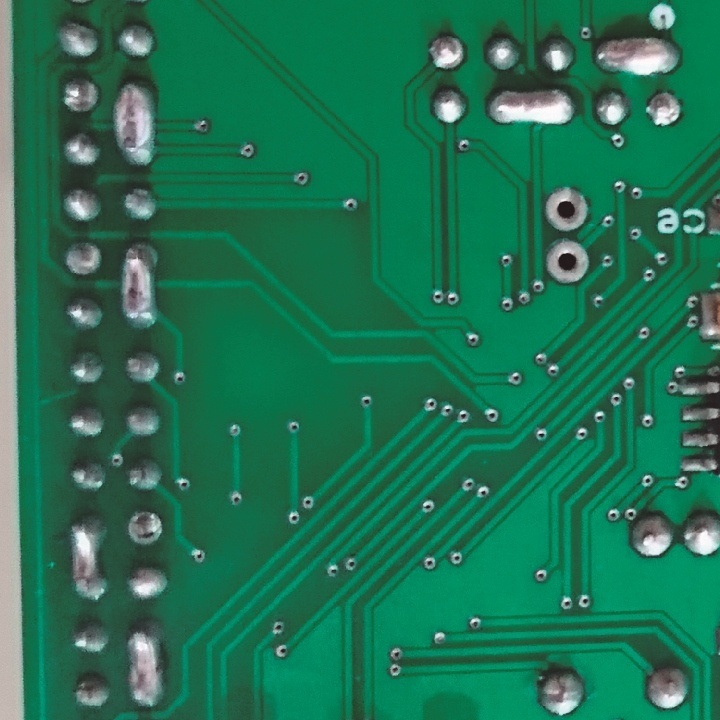F: (542, 230, 592, 287), (541, 183, 593, 233), (122, 506, 167, 551), (58, 75, 102, 115), (59, 238, 104, 276)
P: (110, 81, 162, 163), (593, 32, 681, 75), (64, 516, 107, 604), (121, 242, 159, 331), (124, 628, 167, 703), (487, 89, 574, 126)
